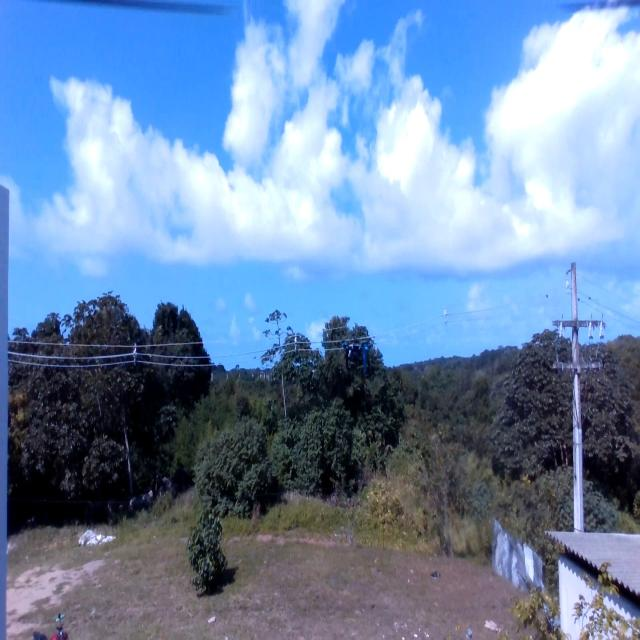-uav-: (340, 326, 376, 381)
